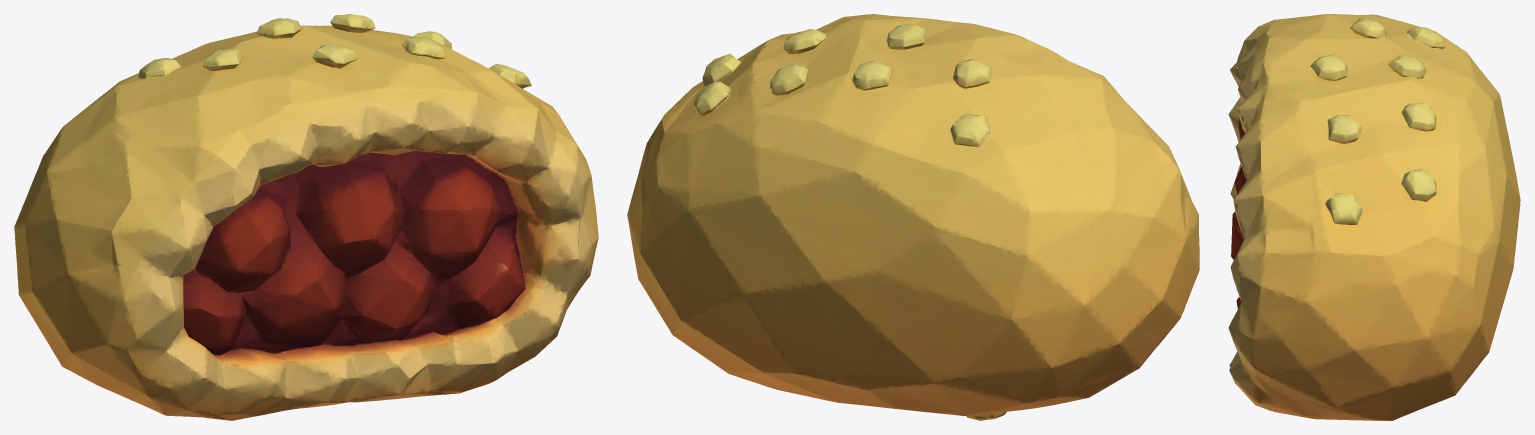
The model's file is tripo_convert_6c3b44a0-c5cf-4e73-b41d-d50525890bde.fbx.
3 renders of one model, left to right at view 1: azimuth 30°, elevation 25°; view 2: azimuth 150°, elevation 25°; view 3: azimuth 270°, elevation 25°, orthographic. The views are drawn at different scales.
Visible parts, largest first — view 1: tripo_node_6c3b44a0; view 2: tripo_node_6c3b44a0; view 3: tripo_node_6c3b44a0.
Part boxes in pixels (left/top/right/bottom): tripo_node_6c3b44a0: left=14, top=14, right=598, bottom=420; tripo_node_6c3b44a0: left=627, top=14, right=1199, bottom=420; tripo_node_6c3b44a0: left=1228, top=14, right=1520, bottom=420.
Size of the model in its own units: 1 by 0.6392 by 0.5485.
1 material, 1 textured.
